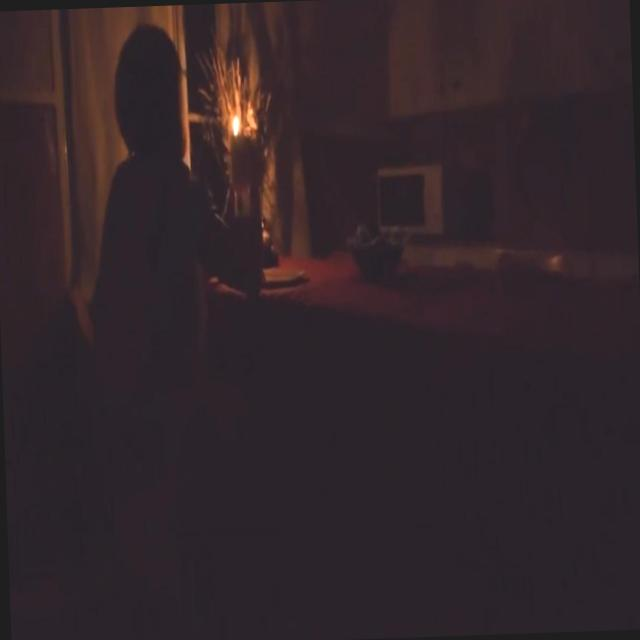fire: (216, 75, 258, 172)
